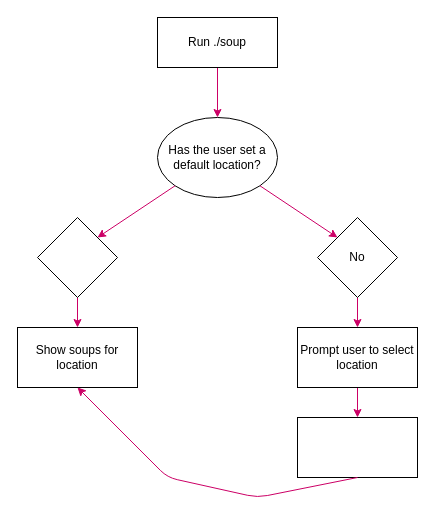
Some shapes in this 435 by 523 pixel diagram are drawn without their labels. The centre of each missing label's shape, as x and y in pixels:
"User selects location; its info is saved to a local file" goes at [357,447].
"Yes" goes at [77,257].
